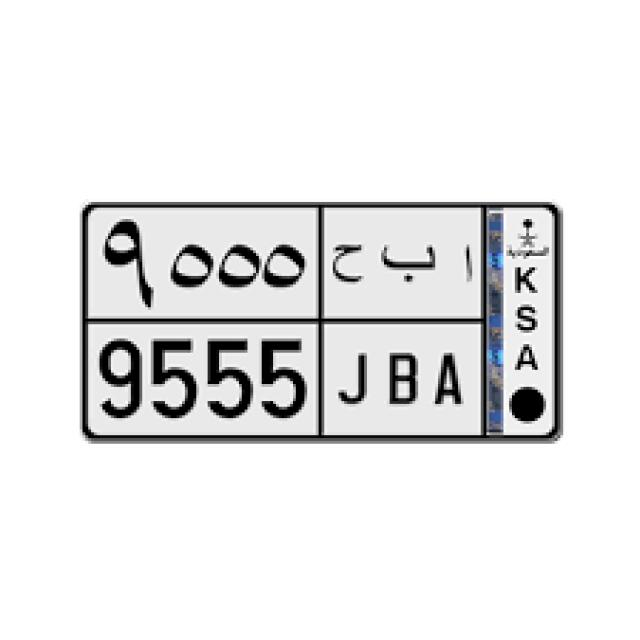license_plate: (74, 197, 569, 452)
